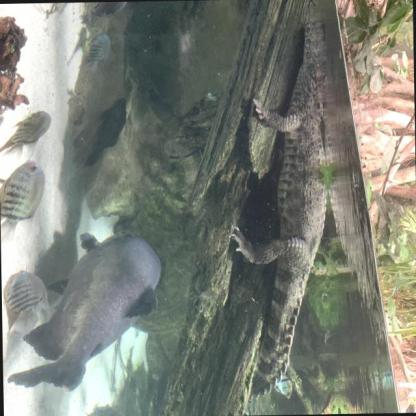fish: (2, 226, 166, 395), (0, 158, 47, 244), (1, 264, 52, 336), (0, 106, 53, 162), (80, 2, 128, 32), (80, 32, 112, 74), (275, 370, 292, 400)
